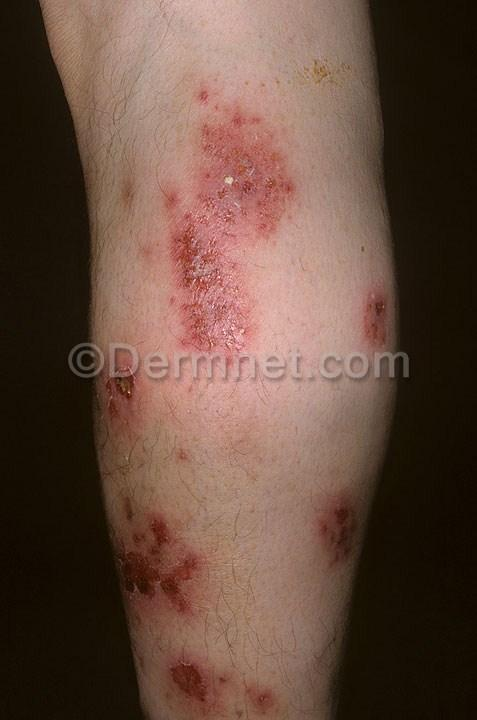Eczema: (116, 69, 353, 349), (88, 473, 226, 627), (143, 640, 351, 720), (313, 455, 380, 595), (96, 380, 175, 436), (366, 279, 403, 357)
